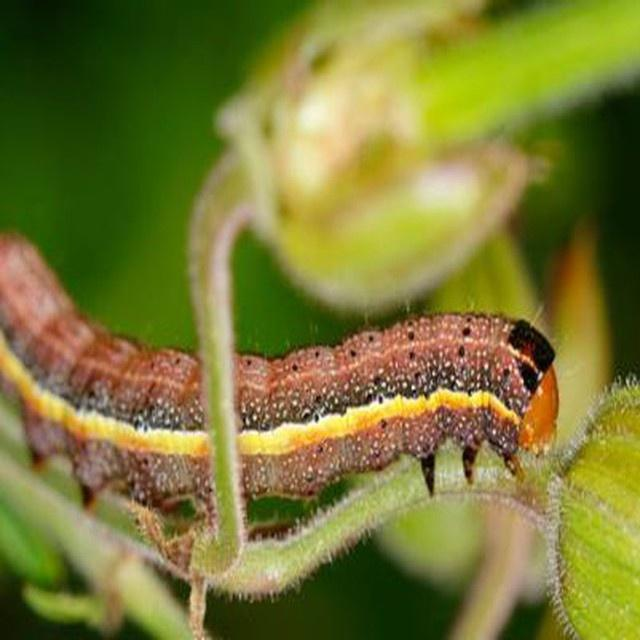gusano_cogollero: (0, 232, 555, 516)
